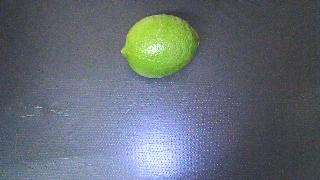EXPORTACION: (121, 14, 199, 78)
